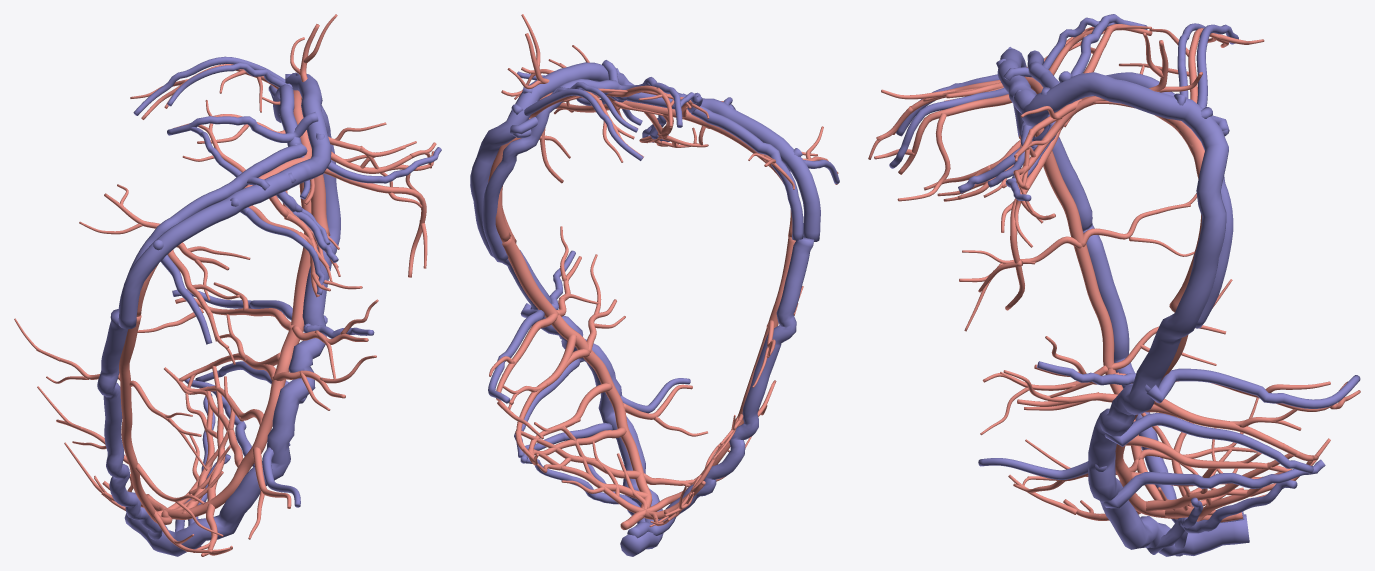
Rendered from vessels_5.glb.
3 views of the same model, side by side, from view 1: azimuth 30°, elevation 25°; view 2: azimuth 150°, elevation 25°; view 3: azimuth 270°, elevation 25° (orthographic). The views are drawn at different scales.
Parts seen in each view (by area): view 1: Renderer Node; view 2: Renderer Node; view 3: Renderer Node.
Part boxes in pixels (x1=…): Renderer Node: x1=14, y1=14, x2=441, y2=556; Renderer Node: x1=470, y1=14, x2=839, y2=556; Renderer Node: x1=868, y1=14, x2=1360, y2=556.
Bounding box in the file's own units: 89.29 × 124 × 90.51.
